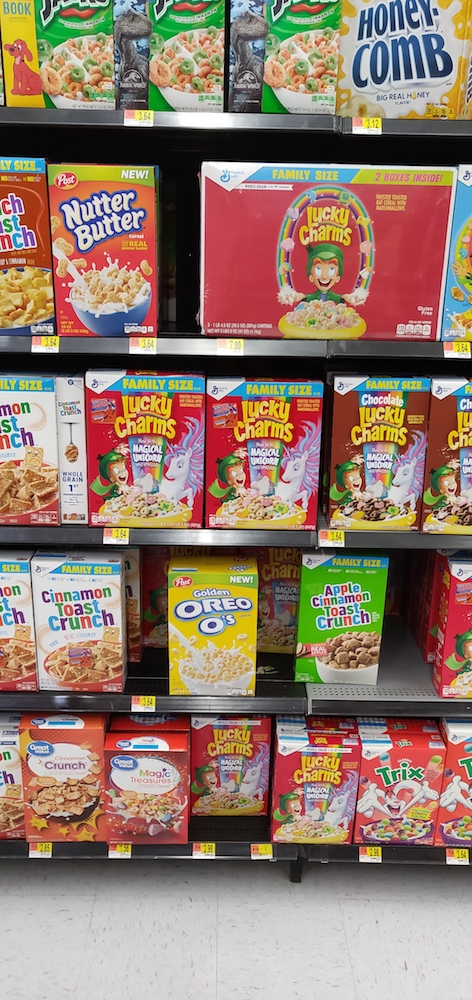Nutter Butter-565717511: (47, 163, 158, 336)
Oreo Golden-568301011: (167, 557, 258, 694)
